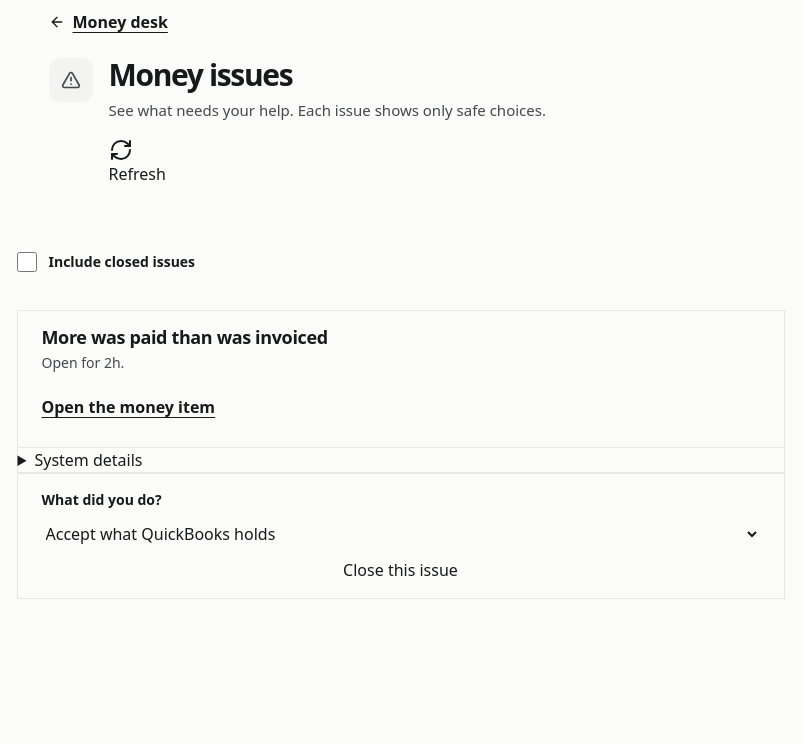
Scenario: money exception queue › turns a server refusal into a sentence rather than a code
Step 1. Select "Accept what QuickBooks holds" in the dropdown labelled "What did you do?" → coordinates (400, 534), box [42,522,760,546]
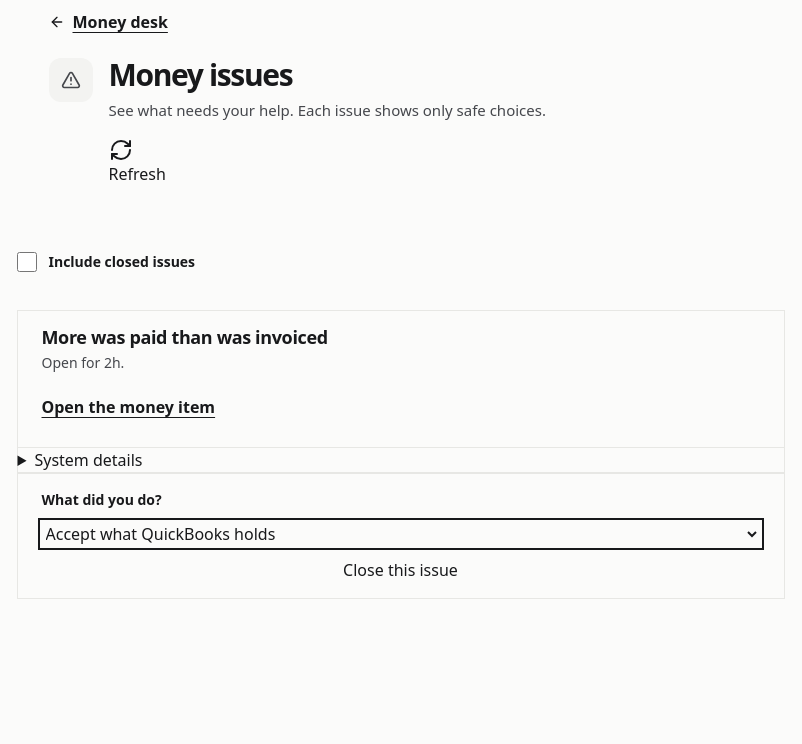
Step 2. Click the button "Close this issue" → coordinates (400, 570), box [42,558,760,582]
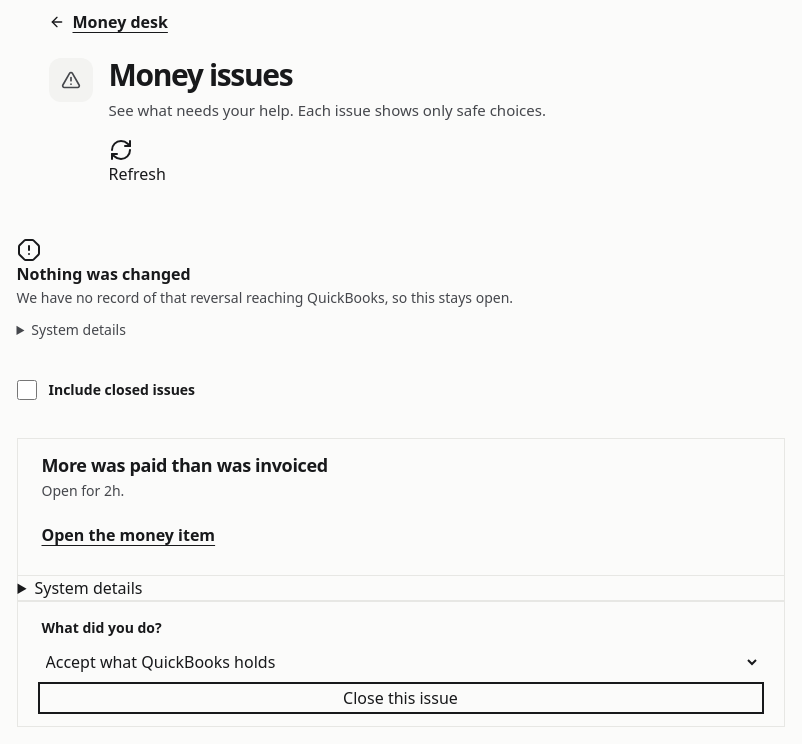
Now the text "We have no record of that reversal reaching QuickBooks, so this stays open." is shown, box [16,288,513,307]
